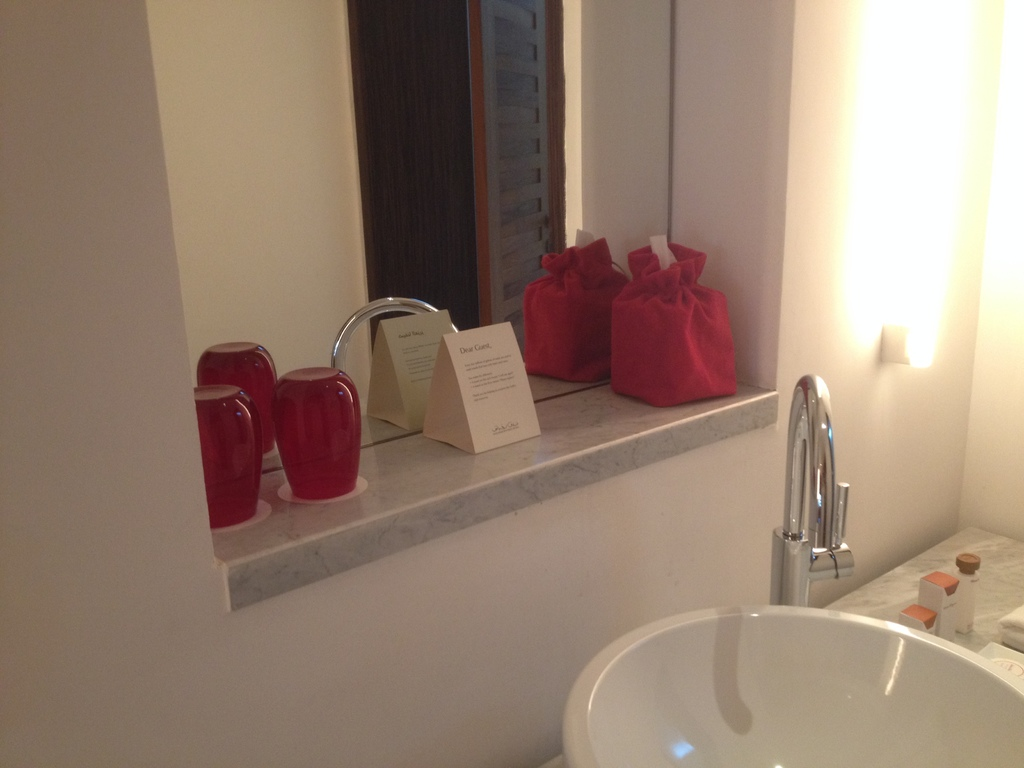tap: (776, 367, 863, 605)
